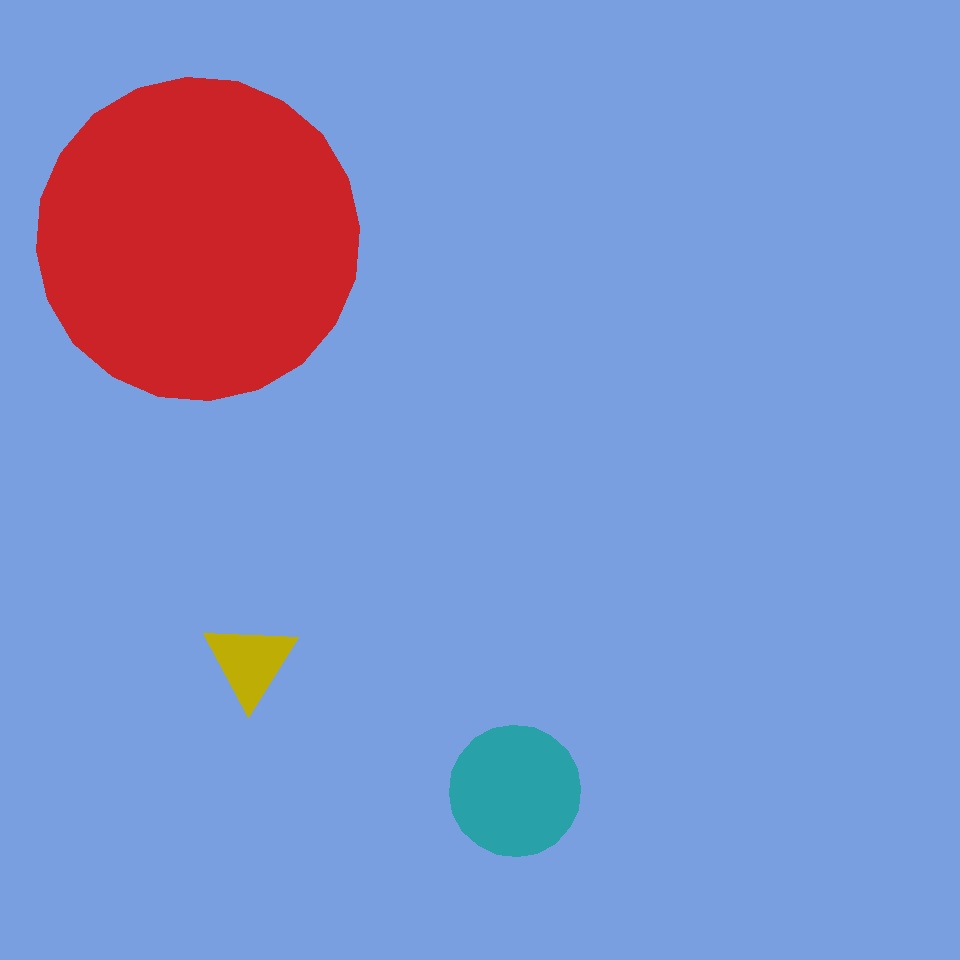circle: (203, 621, 298, 705)
triangle: (36, 77, 360, 401), (450, 726, 580, 856)
